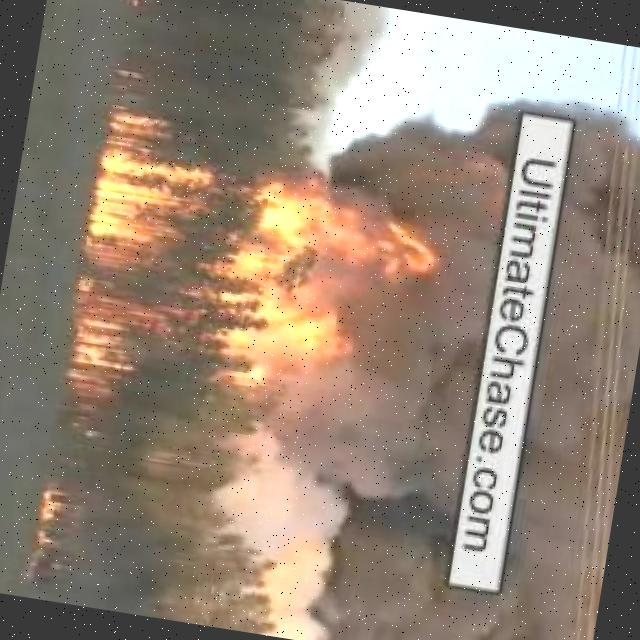fire: (63, 88, 241, 452), (209, 184, 451, 425), (31, 479, 84, 570)
